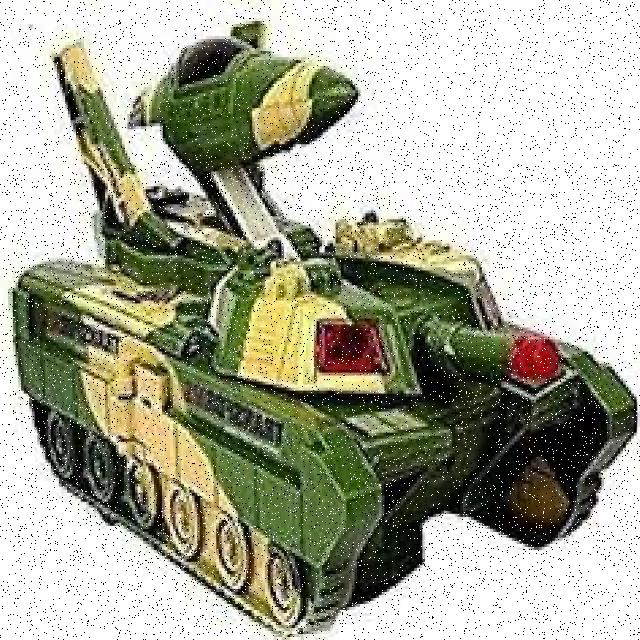MIL_MBT: (11, 164, 636, 635)
